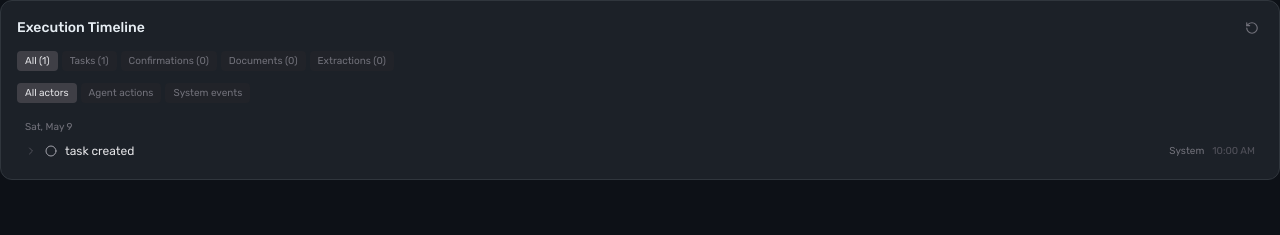
Scenario: ExecutionTimelinePanel Phase 5D › renders metadata keys with human labels
Click the text "task created". click: x=100, y=151
box: [65,144,134,158]
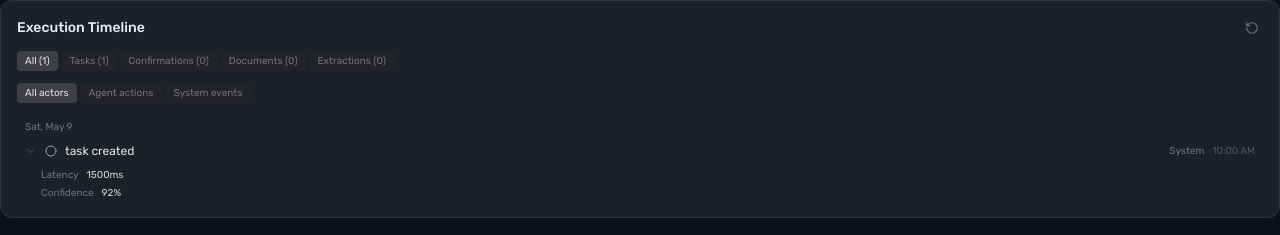
Check: the text "Latency" is shown, box [41,167,79,183]
Check: the text "1500ms" is shown, box [87,167,124,183]
Check: the text "Confidence" is shown, box [41,185,94,201]
